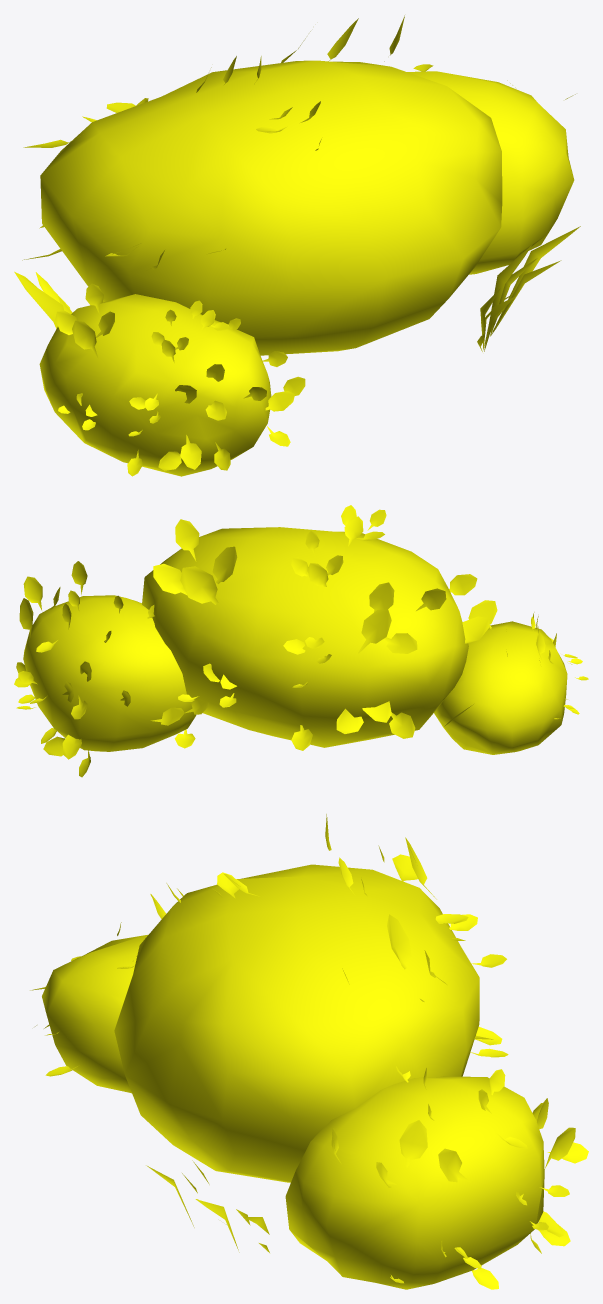
The picture shows the model from 3 angles, top to bottom: view 1: azimuth 30°, elevation 25°; view 2: azimuth 150°, elevation 25°; view 3: azimuth 270°, elevation 25°; orthographic projection. The views are drawn at different scales.
Visible parts, largest first — view 1: Tree_A; view 2: Tree_A; view 3: Tree_A.
Boxes of the visible parts, x1=… form: Tree_A: x1=14, y1=15, x2=580, y2=476; Tree_A: x1=14, y1=505, x2=588, y2=777; Tree_A: x1=30, y1=814, x2=588, y2=1289.
Size of the model in its own units: 0.0461 by 0.0211 by 0.0369.
1 material, 1 textured.
